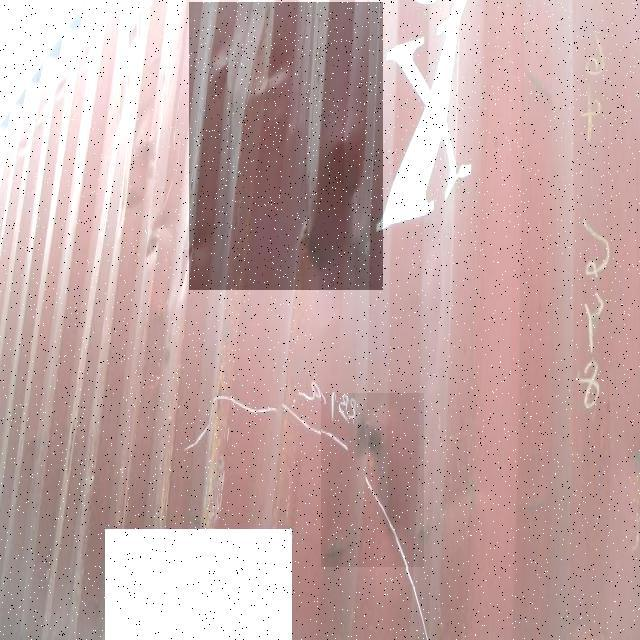Dent: (189, 3, 383, 291)
Minor-Dent: (321, 394, 424, 570)
